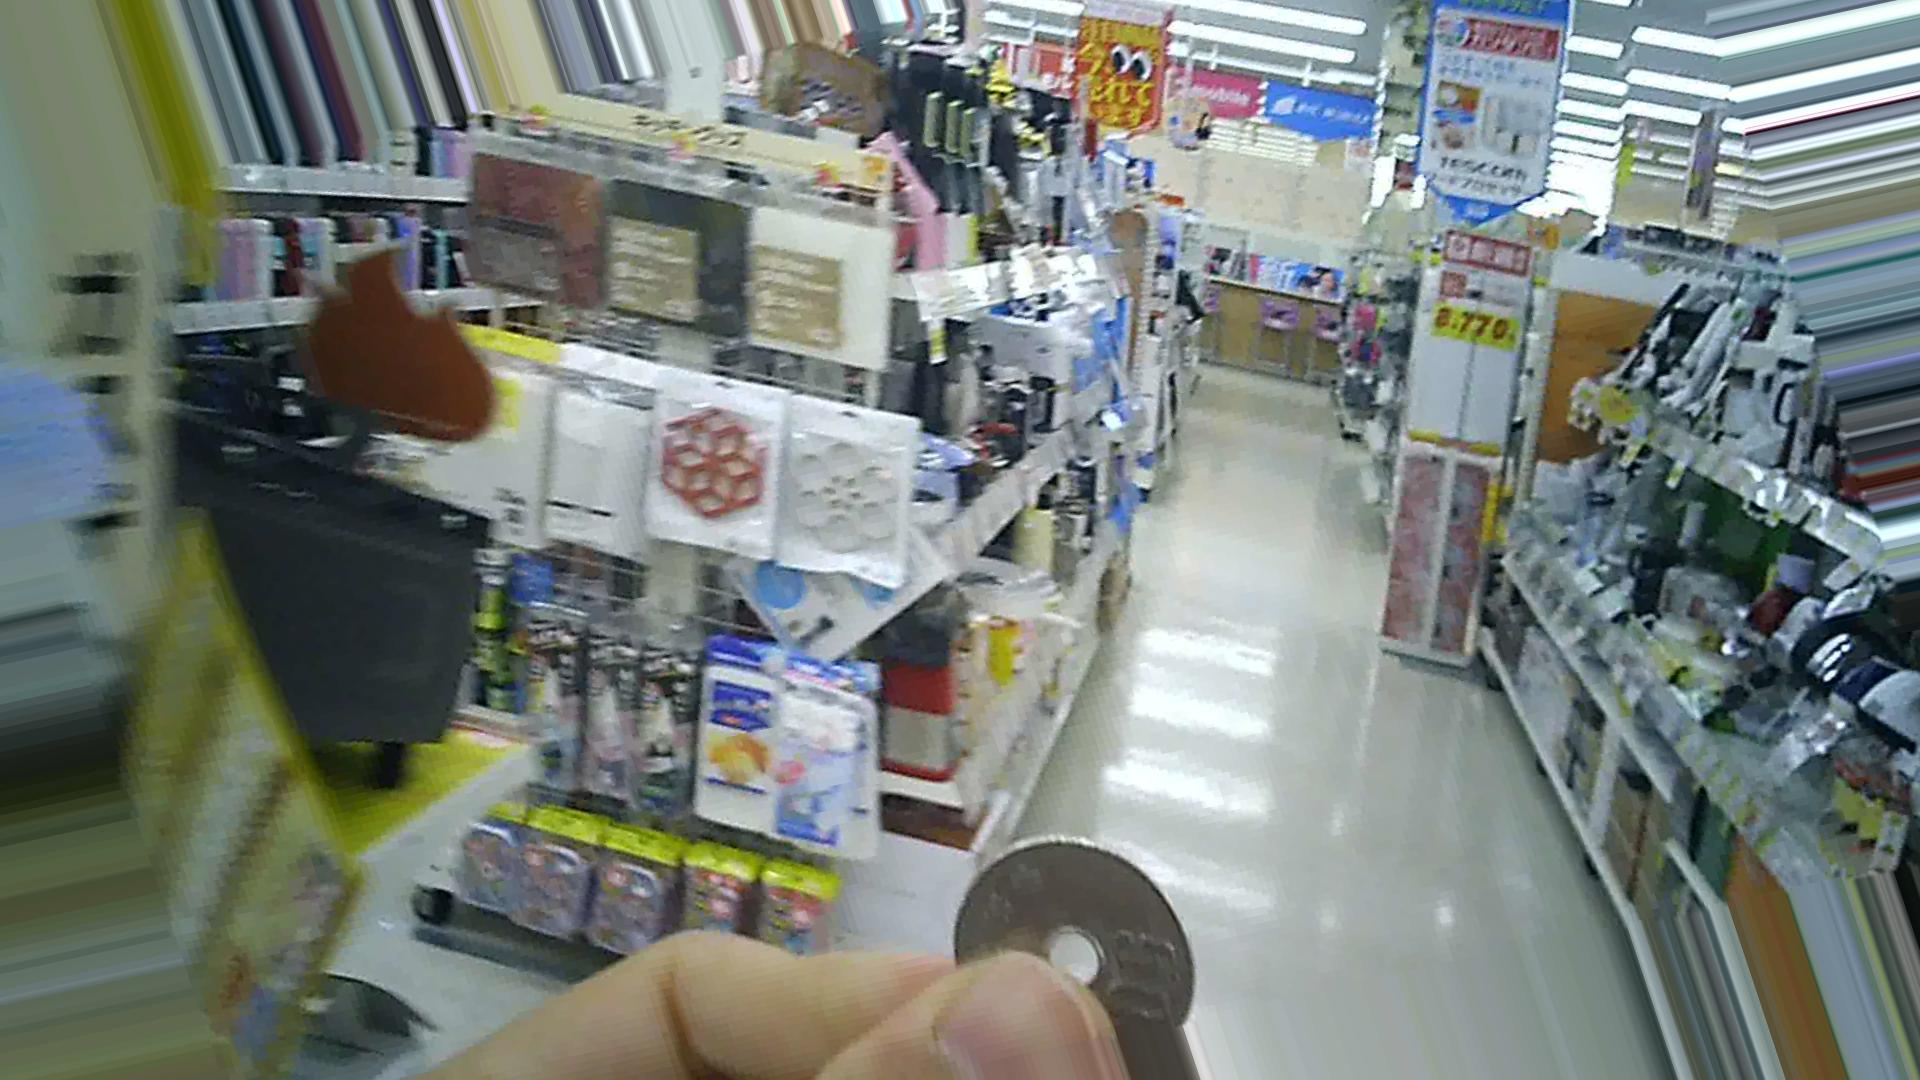50 Yen: (942, 837, 1193, 1047)
